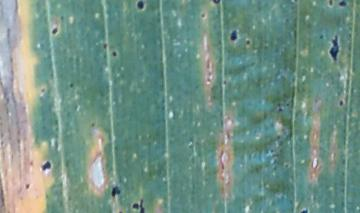tarspot: (328, 35, 340, 61), (131, 200, 144, 213), (41, 160, 52, 172), (111, 185, 121, 197), (229, 29, 238, 41), (137, 1, 145, 11), (244, 38, 252, 46), (51, 26, 58, 35), (102, 41, 109, 50), (339, 1, 348, 8), (111, 50, 118, 58), (278, 105, 285, 113), (39, 86, 46, 93), (326, 1, 333, 8), (24, 182, 31, 189), (69, 80, 75, 88), (222, 78, 228, 86), (339, 98, 344, 107), (299, 208, 308, 213), (59, 13, 65, 20), (90, 122, 96, 128), (318, 34, 325, 39), (212, 1, 223, 4), (201, 12, 206, 18)
